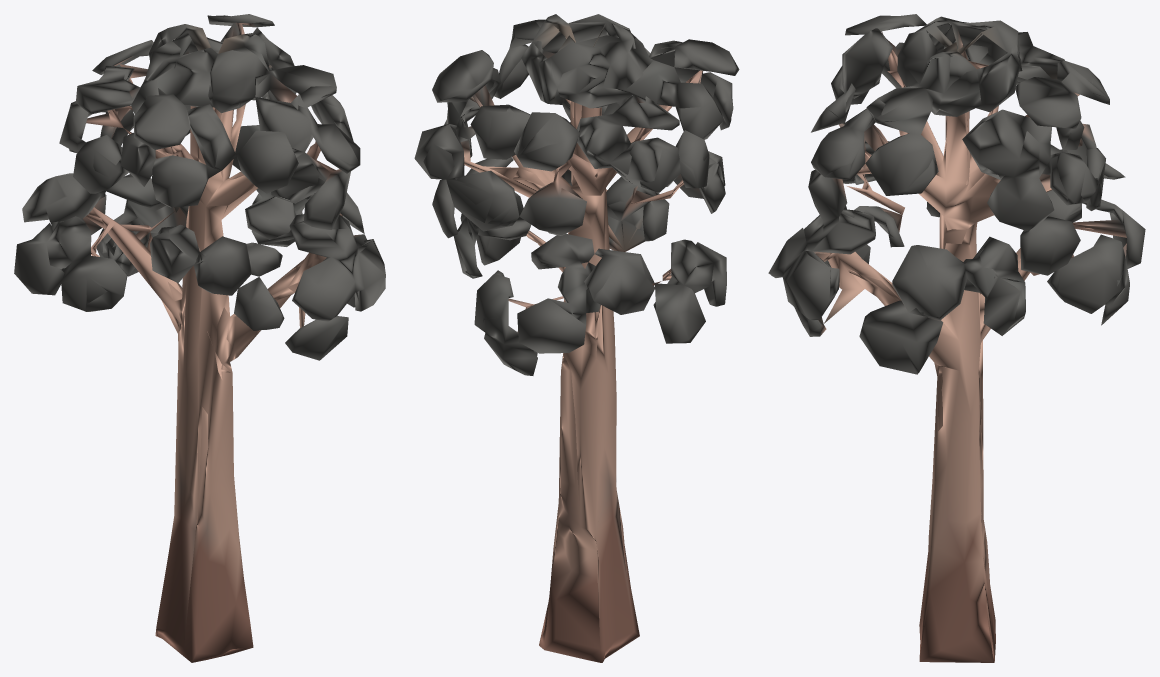
The model's file is gen3d-eucalyptus-tree-lod0.glb.
3 renders of one model, left to right at view 1: azimuth 30°, elevation 25°; view 2: azimuth 150°, elevation 25°; view 3: azimuth 270°, elevation 25°, orthographic. The views are drawn at different scales.
Parts seen in each view (by area): view 1: part_0; view 2: part_0; view 3: part_0.
Boxes of the visible parts, <box> form: part_0: <box>14,14,385,662</box>; part_0: <box>414,14,739,662</box>; part_0: <box>768,14,1145,662</box>.
Bounding box in the file's own units: 0.4882 × 0.9987 × 0.5477.
